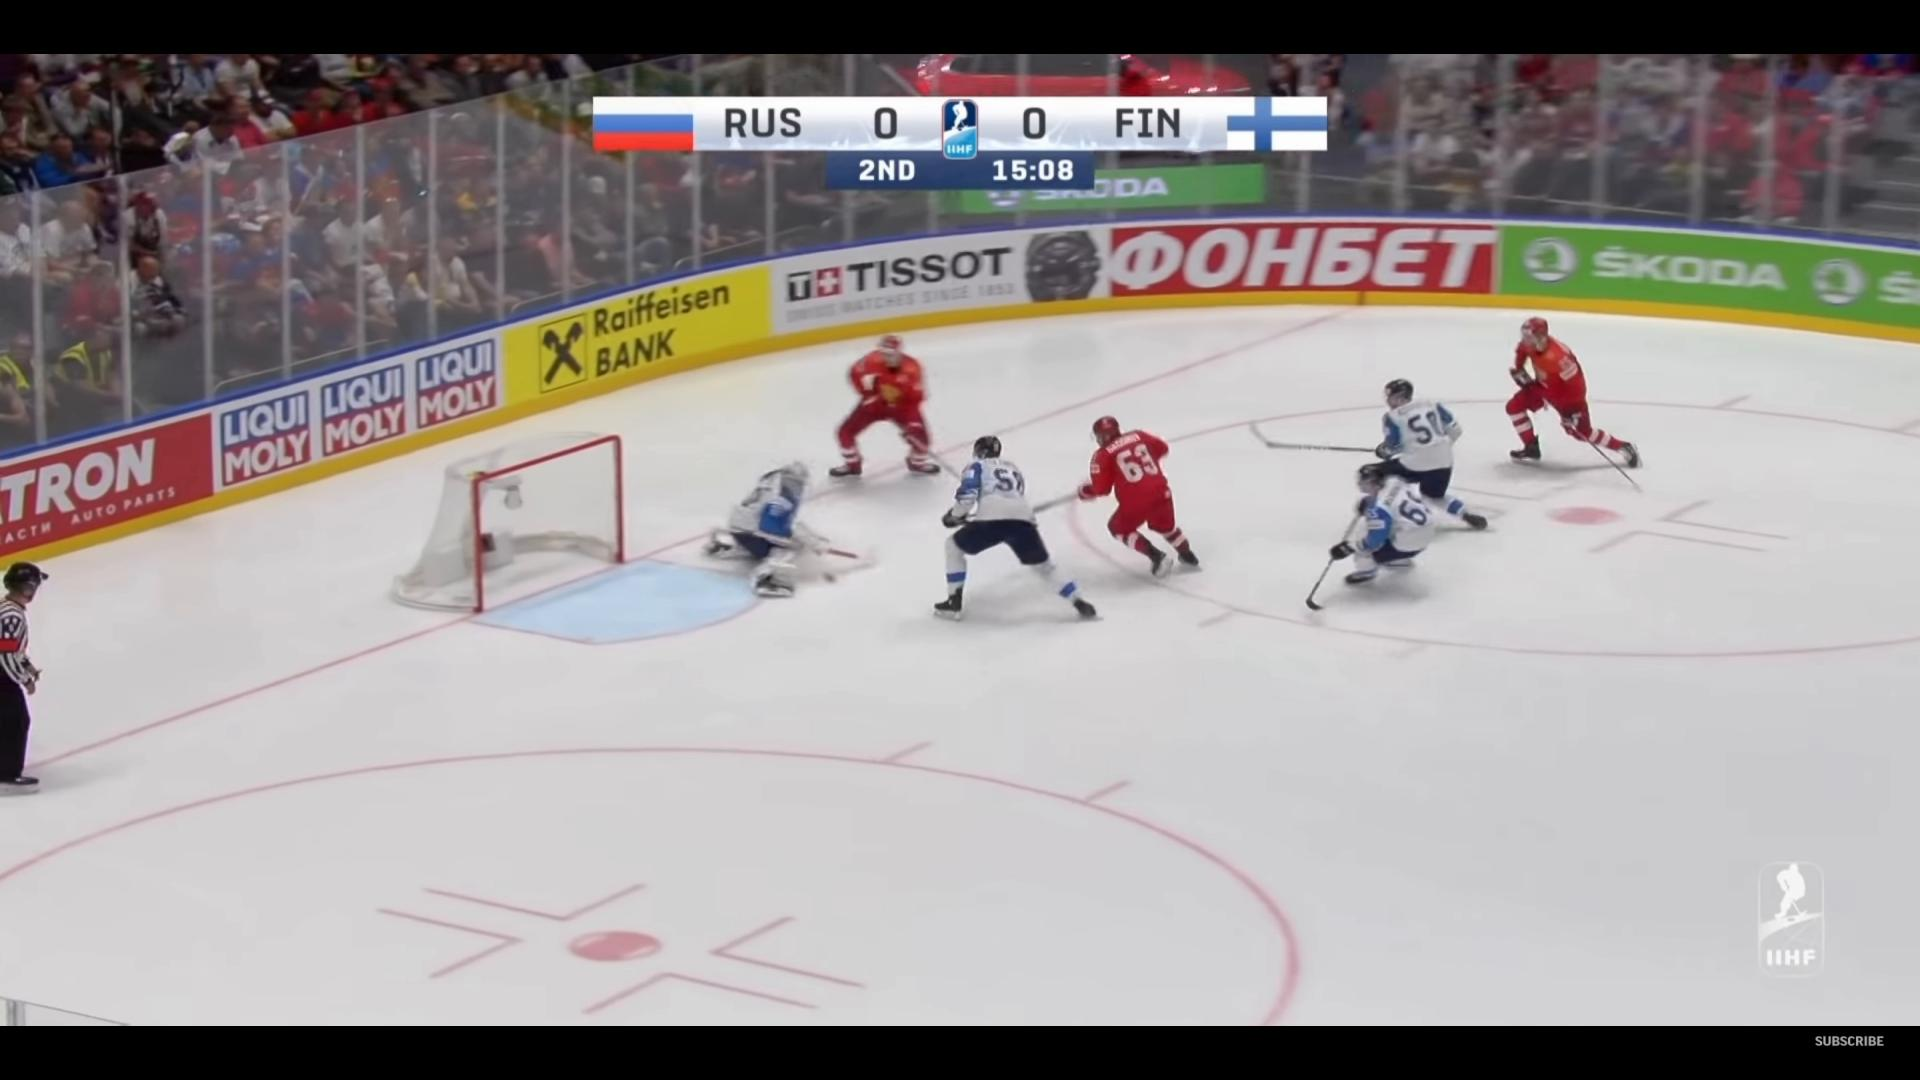puck: (823, 571, 835, 583)
